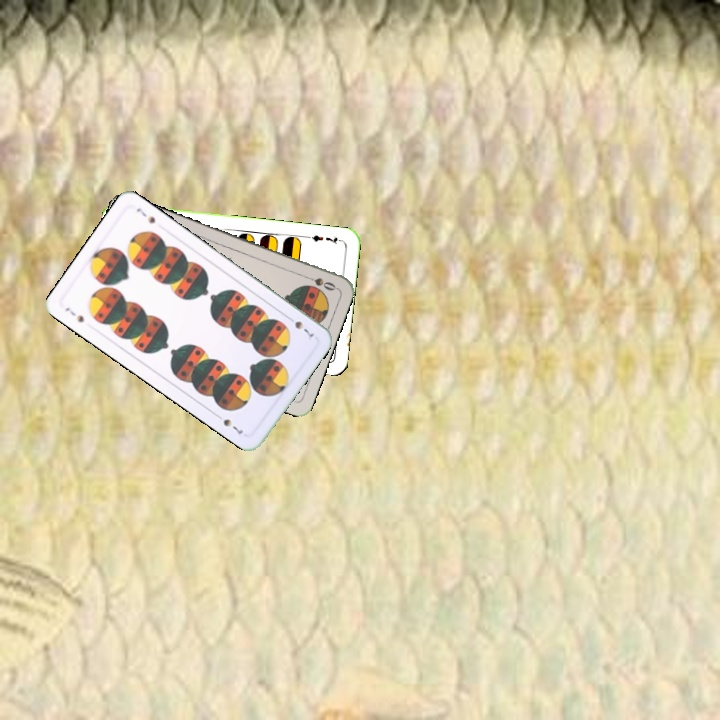E7: (304, 231, 344, 247)
S7: (283, 312, 316, 340), (61, 303, 87, 325)
SO: (300, 271, 339, 293)
